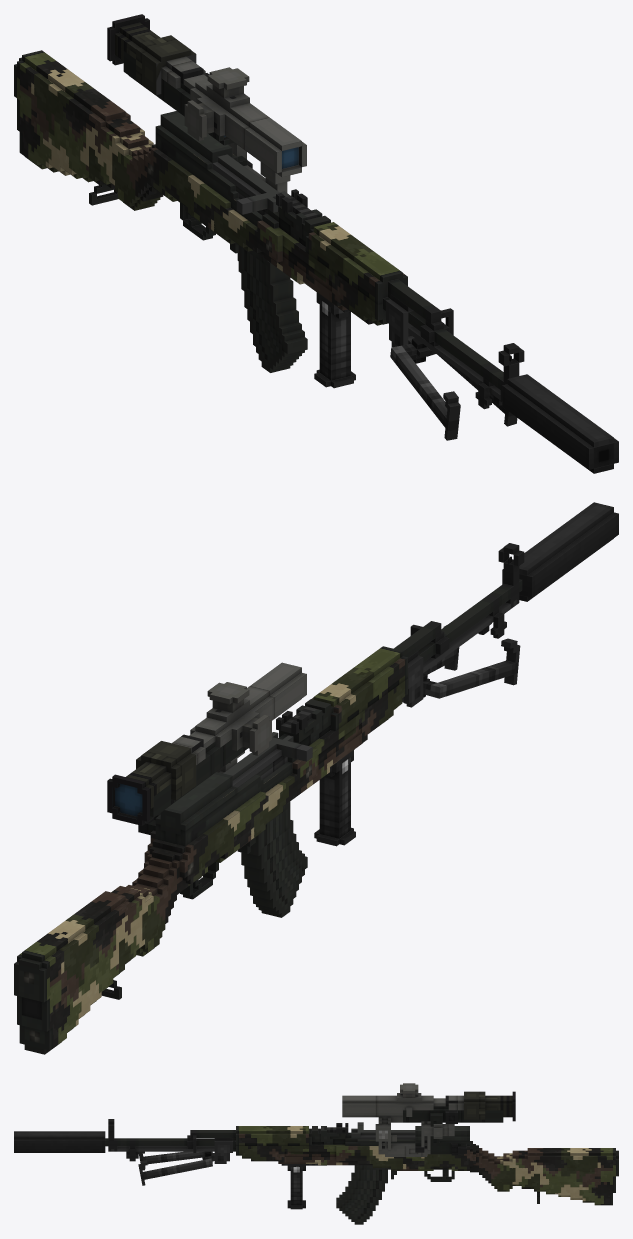
File: RD_SKS_MILITARY1945.glb
3 views of the same model, one above another, from view 1: azimuth 30°, elevation 25°; view 2: azimuth 150°, elevation 25°; view 3: azimuth 270°, elevation 25° (orthographic). The views are drawn at different scales.
Visible parts, largest first — view 1: SKS, SCOPE_PSO1, SKS_CLIP, SILENCER_6X6, GRIP1, DIPOD1_LEG1, SKS_BOLT, SKS_SCOPE, DIPOD1_BODY; view 2: SKS, SCOPE_PSO1, SILENCER_6X6, SKS_CLIP, GRIP1, SKS_BOLT, DIPOD1_LEG1, SKS_SCOPE, DIPOD1_BODY; view 3: SKS, SCOPE_PSO1, SKS_CLIP, SILENCER_6X6, SKS_SCOPE, DIPOD1_LEG2, GRIP1, DIPOD1_LEG1, SKS_BOLT, DIPOD1_BODY.
Part boxes in pixels (x1,y1,x2,y2): SKS: (14, 50, 524, 409); SCOPE_PSO1: (107, 14, 306, 192); SKS_CLIP: (236, 243, 307, 372); SILENCER_6X6: (502, 374, 618, 473); GRIP1: (305, 283, 355, 388); DIPOD1_LEG1: (390, 345, 460, 440); SKS_BOLT: (212, 154, 290, 215); SKS_SCOPE: (123, 51, 252, 168); DIPOD1_BODY: (386, 294, 413, 347); SKS: (14, 543, 524, 1054); SCOPE_PSO1: (107, 662, 306, 825); SILENCER_6X6: (502, 502, 618, 601); SKS_CLIP: (241, 802, 307, 917); GRIP1: (314, 749, 355, 846); SKS_BOLT: (223, 732, 312, 787); DIPOD1_LEG1: (423, 638, 520, 698); SKS_SCOPE: (138, 734, 247, 834); DIPOD1_BODY: (404, 651, 423, 707); SKS: (105, 1119, 618, 1205); SCOPE_PSO1: (342, 1083, 515, 1156); SKS_CLIP: (336, 1165, 390, 1224); SILENCER_6X6: (14, 1131, 105, 1152); SKS_SCOPE: (403, 1095, 503, 1155); DIPOD1_LEG2: (138, 1158, 212, 1185); GRIP1: (281, 1164, 326, 1209); DIPOD1_LEG1: (138, 1151, 212, 1170); SKS_BOLT: (351, 1122, 415, 1139); DIPOD1_BODY: (214, 1138, 232, 1163).
Size of the model in its own units: 0.1378 by 0.4822 by 1.96.
Materials: 5 (5 with a texture image).
